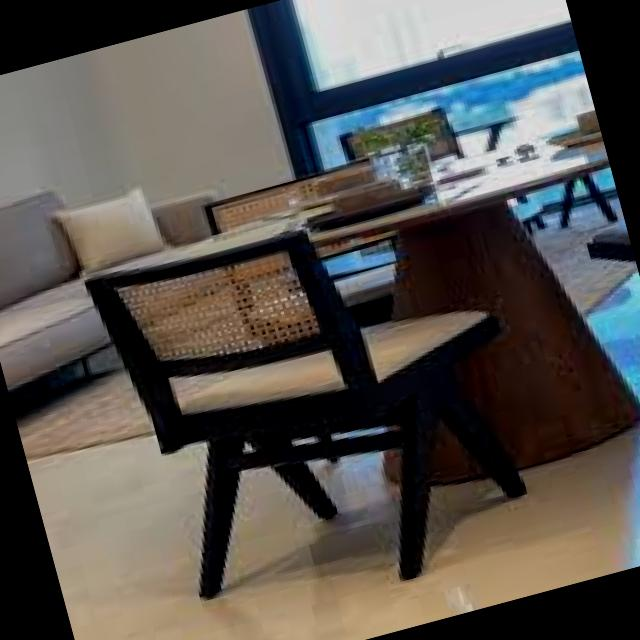Chair: (69, 171, 562, 640)
